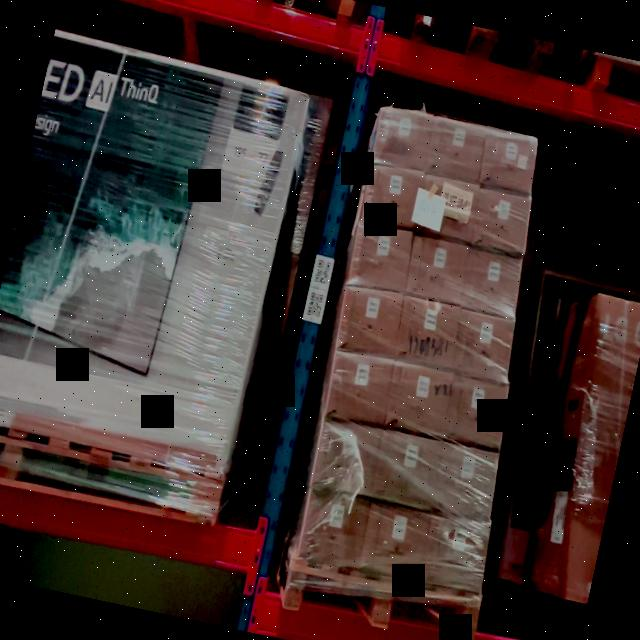box: (0, 29, 307, 466), (369, 425, 446, 507), (419, 509, 493, 592), (358, 504, 432, 582), (298, 489, 370, 569), (312, 420, 380, 495), (326, 352, 394, 425), (336, 287, 404, 358), (434, 446, 498, 520), (348, 224, 415, 294), (393, 298, 459, 369), (387, 368, 451, 437), (452, 312, 516, 379), (448, 376, 508, 446), (361, 166, 424, 232), (406, 238, 469, 304), (460, 250, 523, 316), (415, 178, 479, 242), (372, 106, 434, 172), (471, 190, 531, 253), (427, 118, 486, 182), (478, 132, 538, 193)
